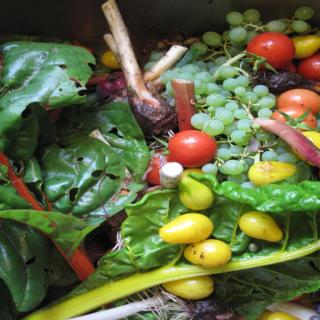tomato: (153, 130, 218, 167), (246, 31, 296, 69)
